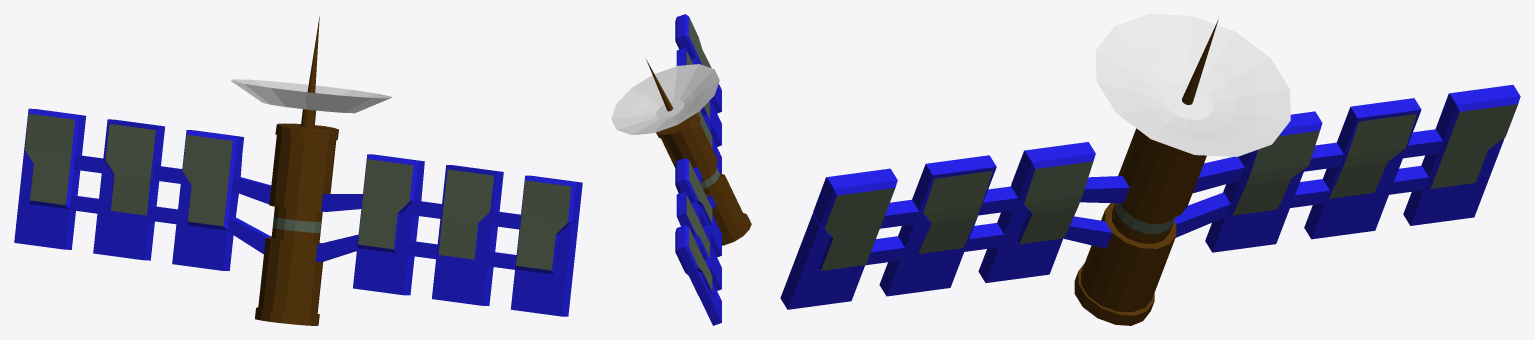
The model's file is Uydu.fbx.
3 views of the same model, side by side, from view 1: azimuth 30°, elevation 25°; view 2: azimuth 150°, elevation 25°; view 3: azimuth 270°, elevation 25° (orthographic). The views are drawn at different scales.
Visible parts, largest first — view 1: Cylinder; view 2: Cylinder; view 3: Cylinder.
Boxes of the visible parts, <box> form: Cylinder: <box>14,16,582,325</box>; Cylinder: <box>611,14,751,325</box>; Cylinder: <box>780,14,1520,325</box>.
Size of the model in its own units: 1210 by 988 by 1953.
